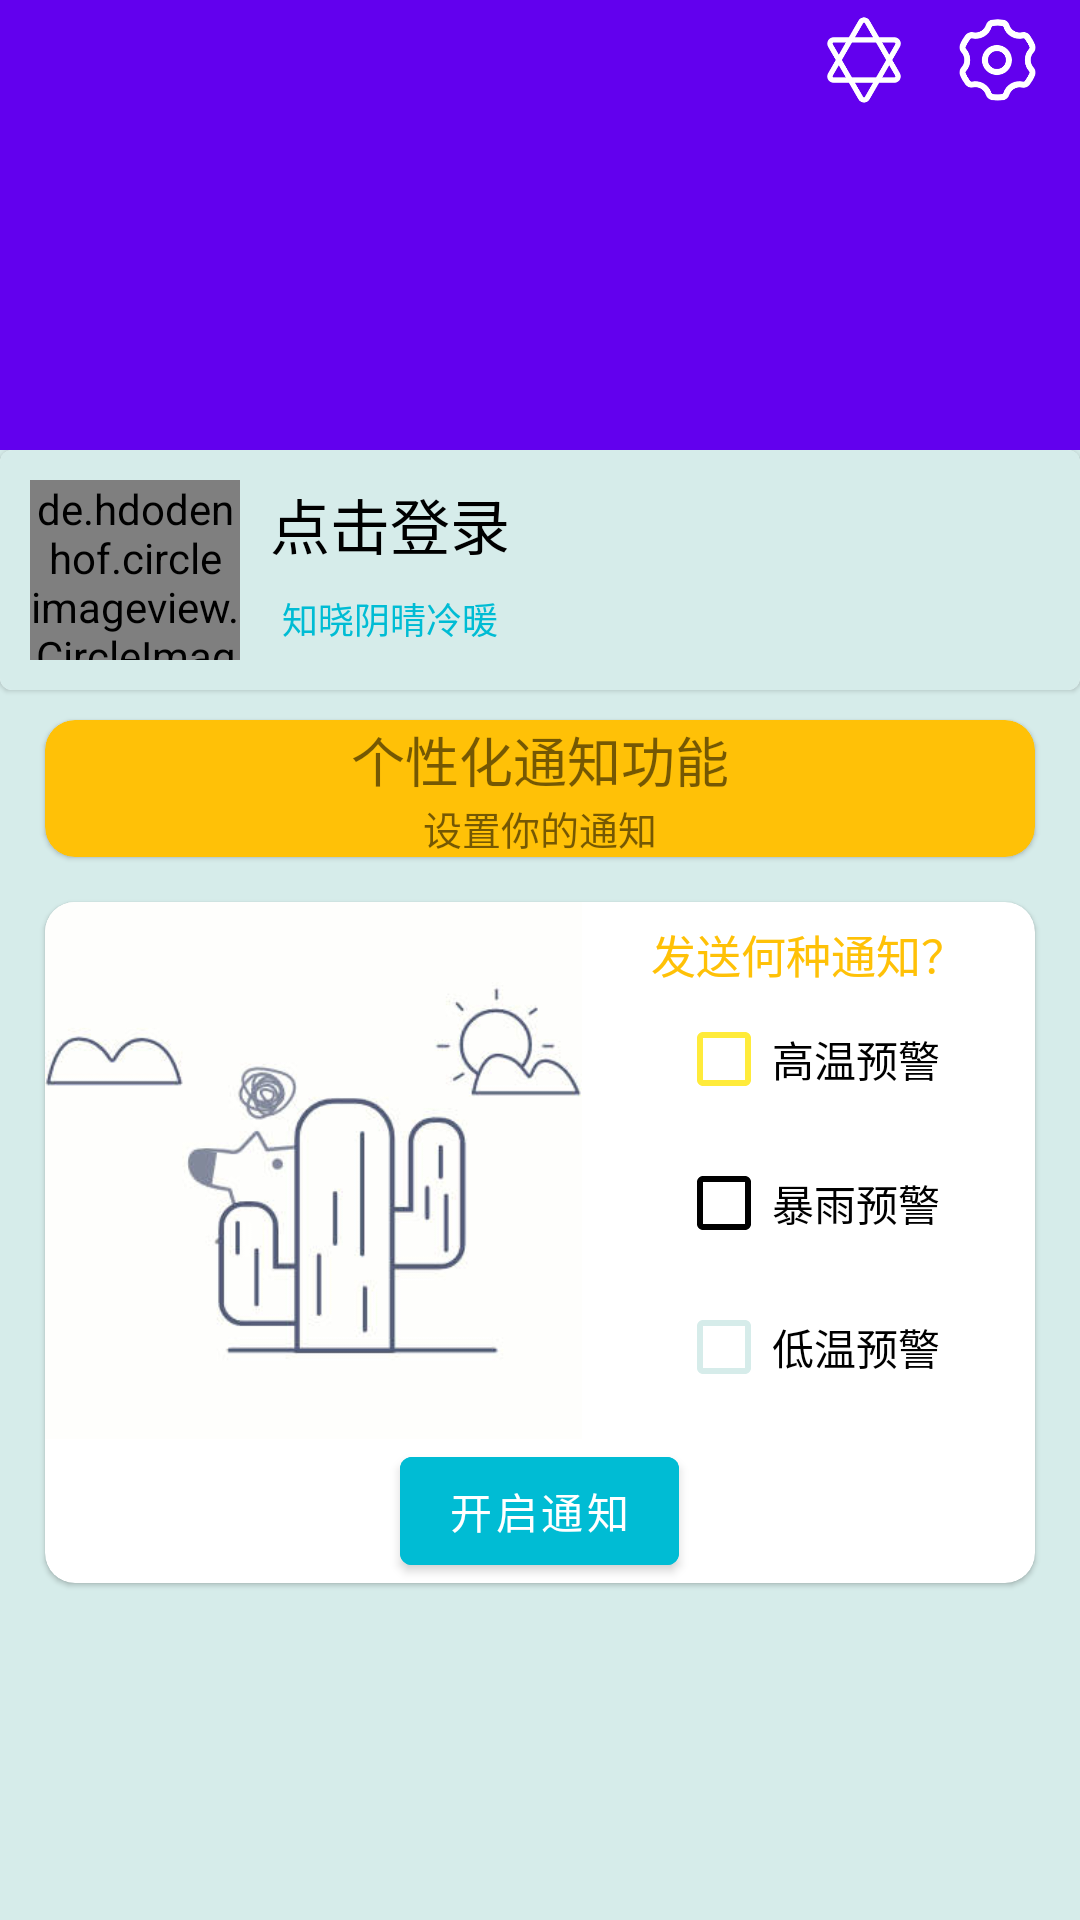

Locate icon controls on the screen. Image size 1080 × 1920, boxes as (x1=x1, y1=y1, x2=x2, y2=y2).
setting: (x1=959, y1=19, x2=1036, y2=101)
